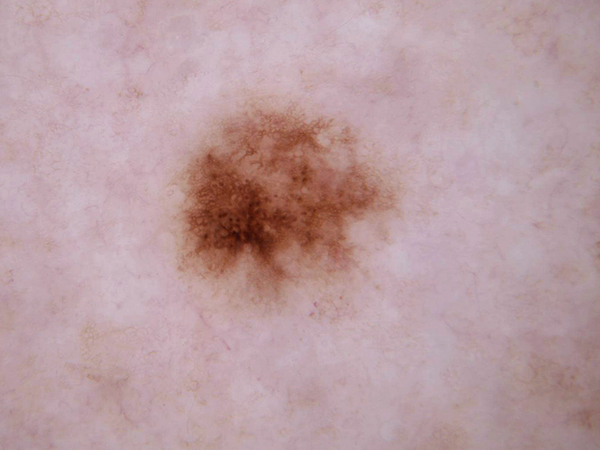Detected Lesion: (160, 97, 401, 300)
